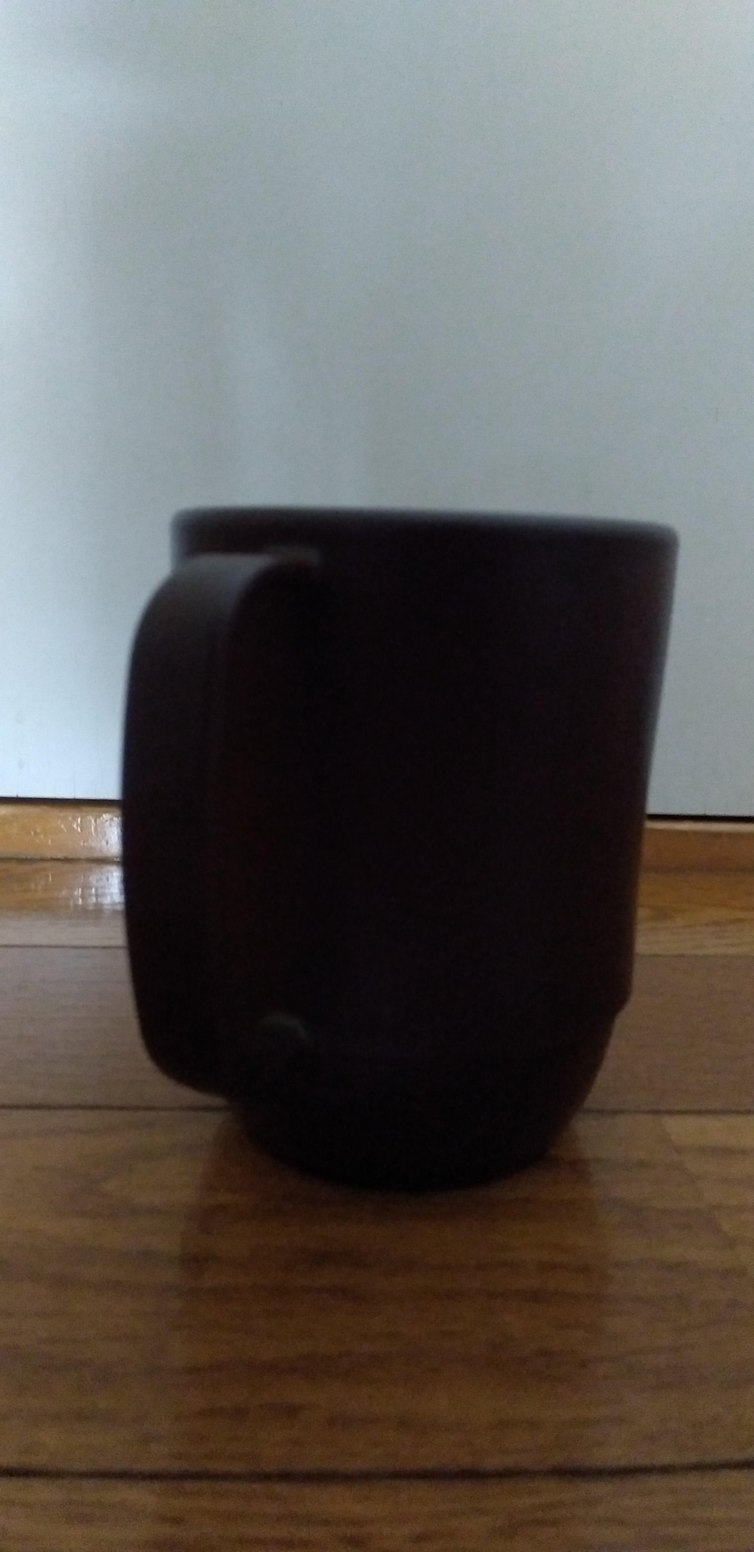mug-real100-3d100: (122, 507, 677, 1189)
